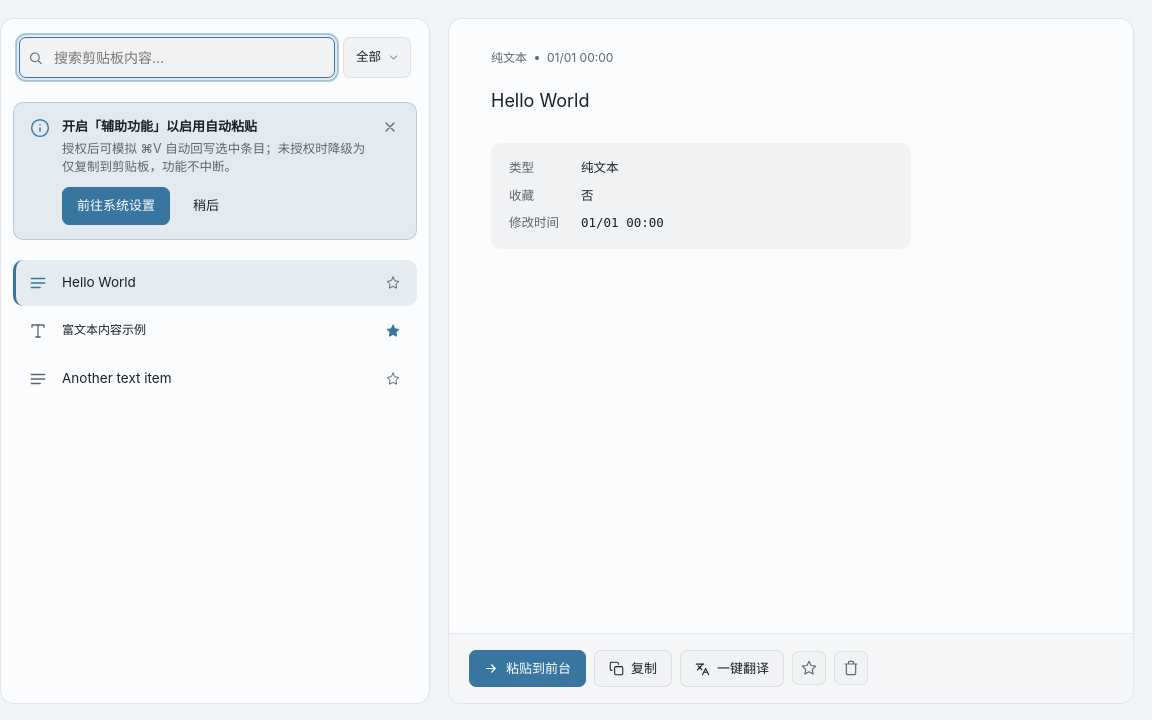
Scenario: clipboard-page › clipboard-page: deleteClipItem IPC reject 时显示操作错误提示
# Act：点击预览区的删除按钮
Click the button named "删除" at [851, 668], box [834, 651, 868, 685]
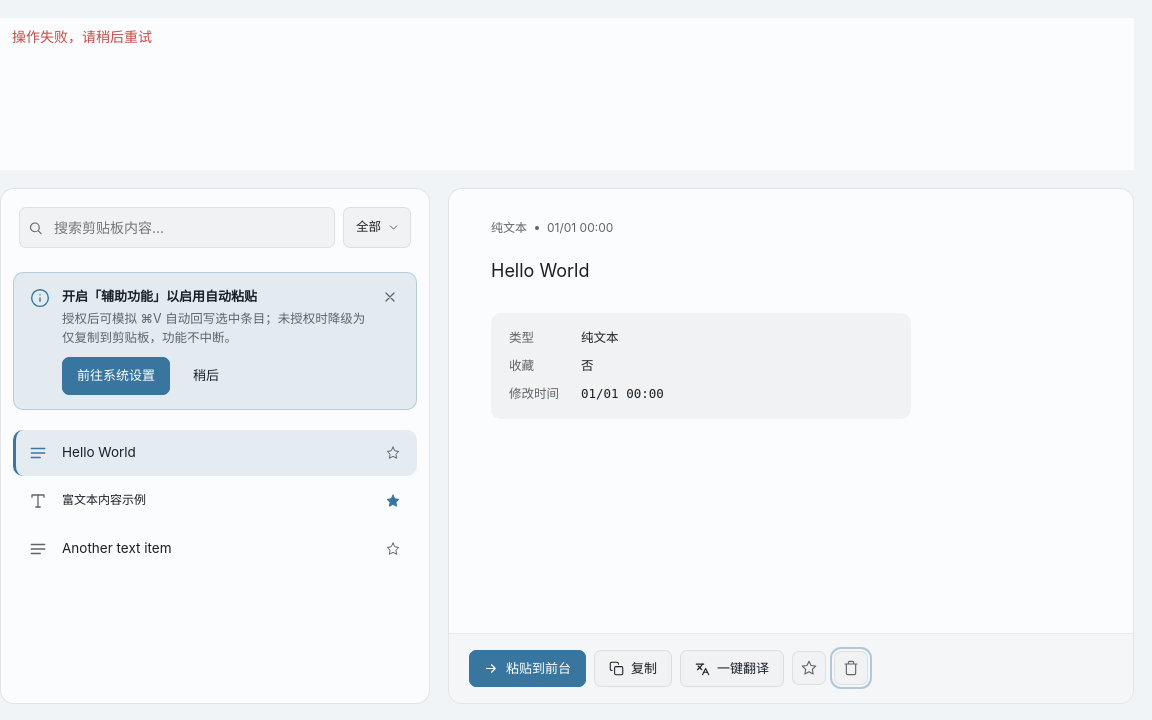
Now the message "操作失败，请稍后重试" is shown, box [0, 18, 1134, 170]
Now the message reads "操作失败，请稍后重试", box [12, 28, 152, 45]
